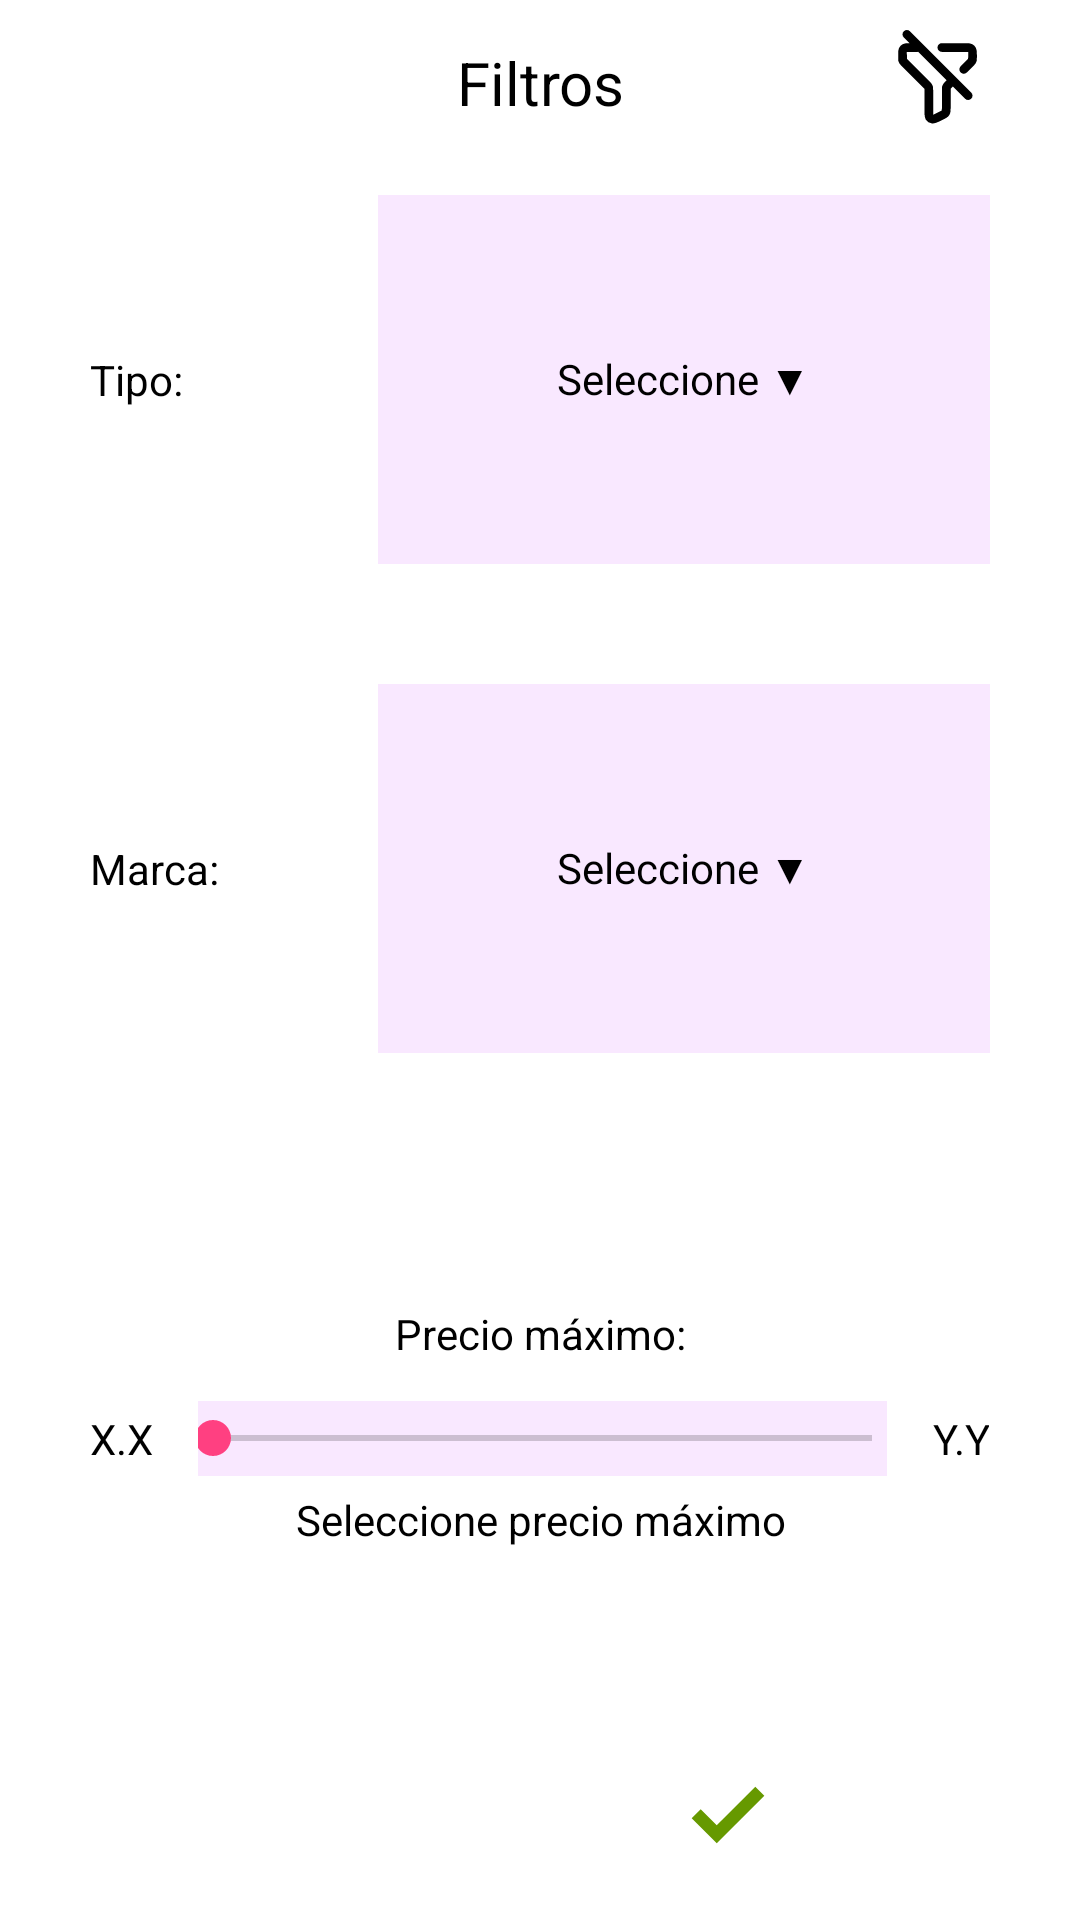

Where icons sit on this 1080×1920 app screen, as {"left": x1, "top": y1, "right": x2, "bottom": y2}:
filter off: {"left": 898, "top": 30, "right": 977, "bottom": 124}
tick: {"left": 691, "top": 1787, "right": 764, "bottom": 1843}
